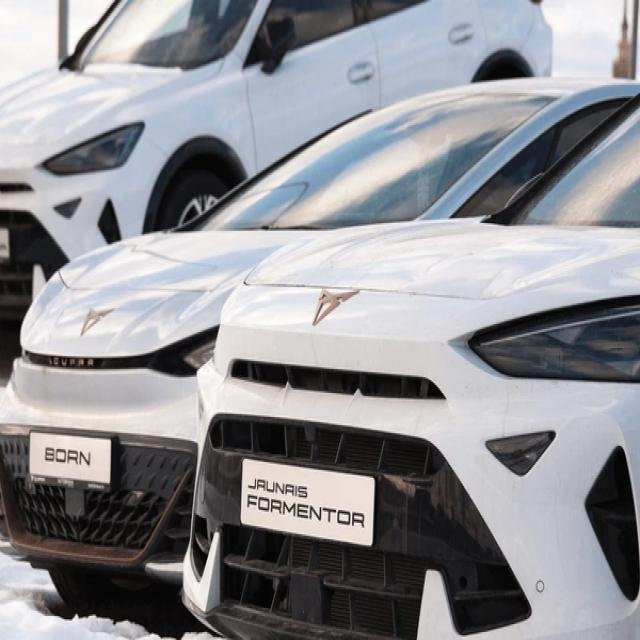cupra: (314, 279, 364, 330), (79, 299, 115, 344)
